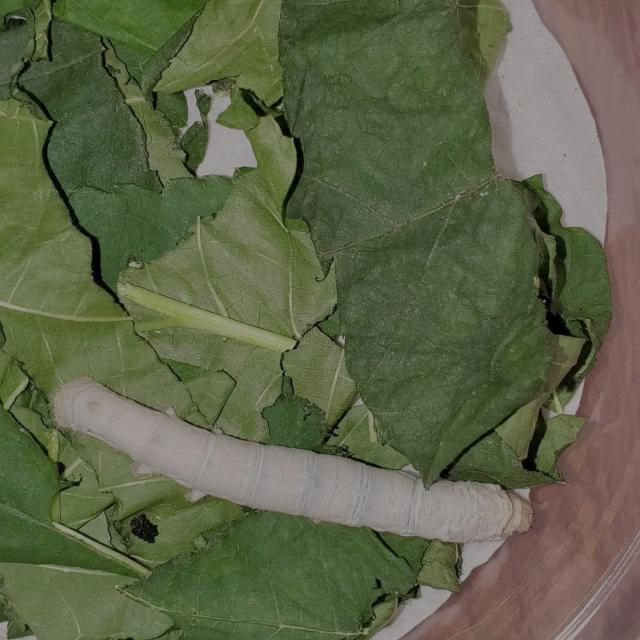Healthy: (28, 346, 566, 594)
